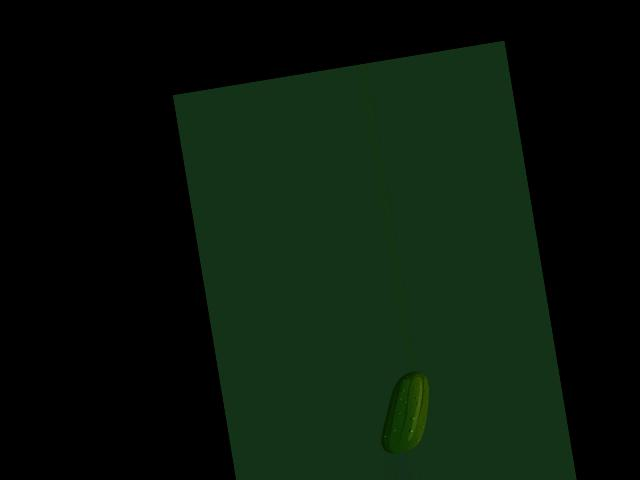cucumber: (370, 369, 438, 455)
